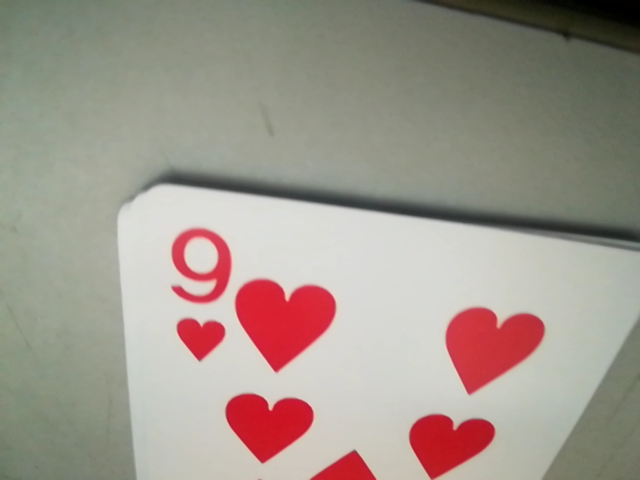hx 9: (149, 228, 243, 362)
